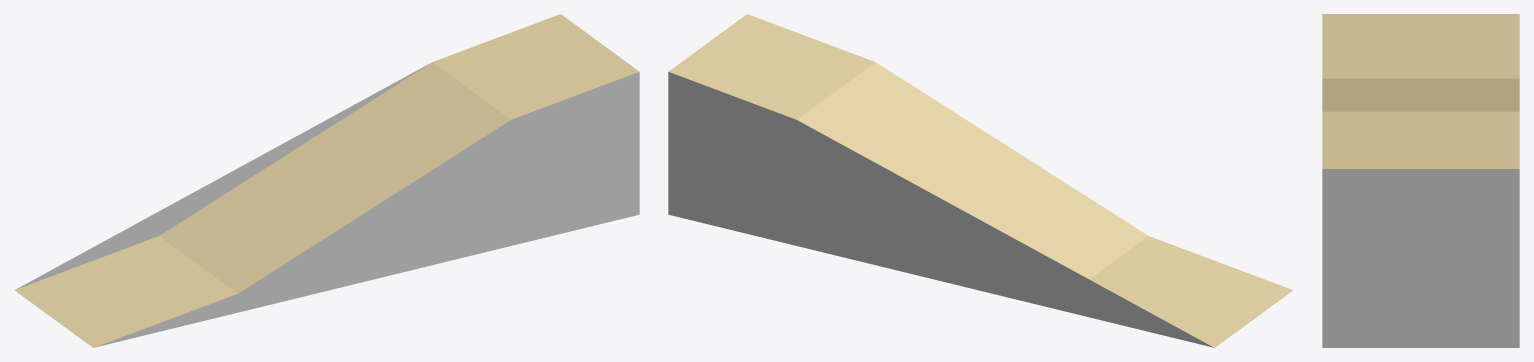
The model's file is Path_Terrain_Incline_Gentle_Center_1x4.glb.
3 views of the same model, side by side, from view 1: azimuth 30°, elevation 25°; view 2: azimuth 150°, elevation 25°; view 3: azimuth 270°, elevation 25° (orthographic). The views are drawn at different scales.
Visible parts, largest first — view 1: Path_Terrain_Incline_Gentle_Center_1x4; view 2: Path_Terrain_Incline_Gentle_Center_1x4; view 3: Path_Terrain_Incline_Gentle_Center_1x4.
Part boxes in pixels (box(x1,y1,x2,y2)): Path_Terrain_Incline_Gentle_Center_1x4: box(14, 14, 639, 347); Path_Terrain_Incline_Gentle_Center_1x4: box(668, 14, 1293, 347); Path_Terrain_Incline_Gentle_Center_1x4: box(1322, 14, 1519, 347).
Bounding box in the file's own units: 400 × 100 × 100.
